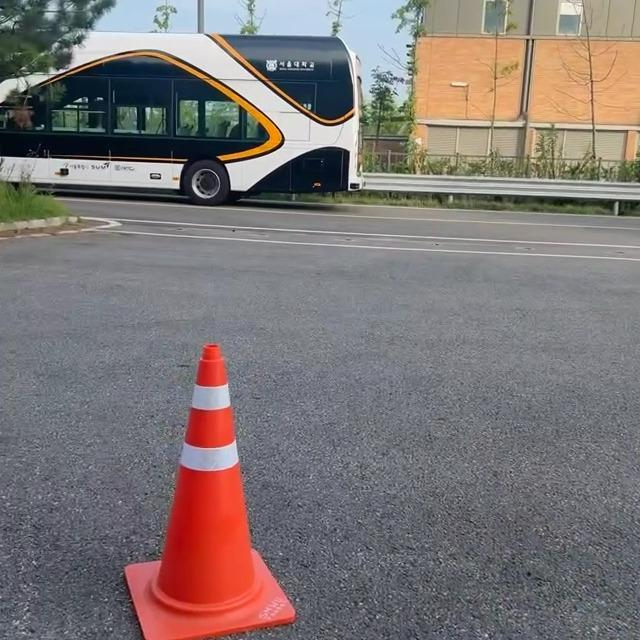fallen_object: (95, 337, 414, 640)
